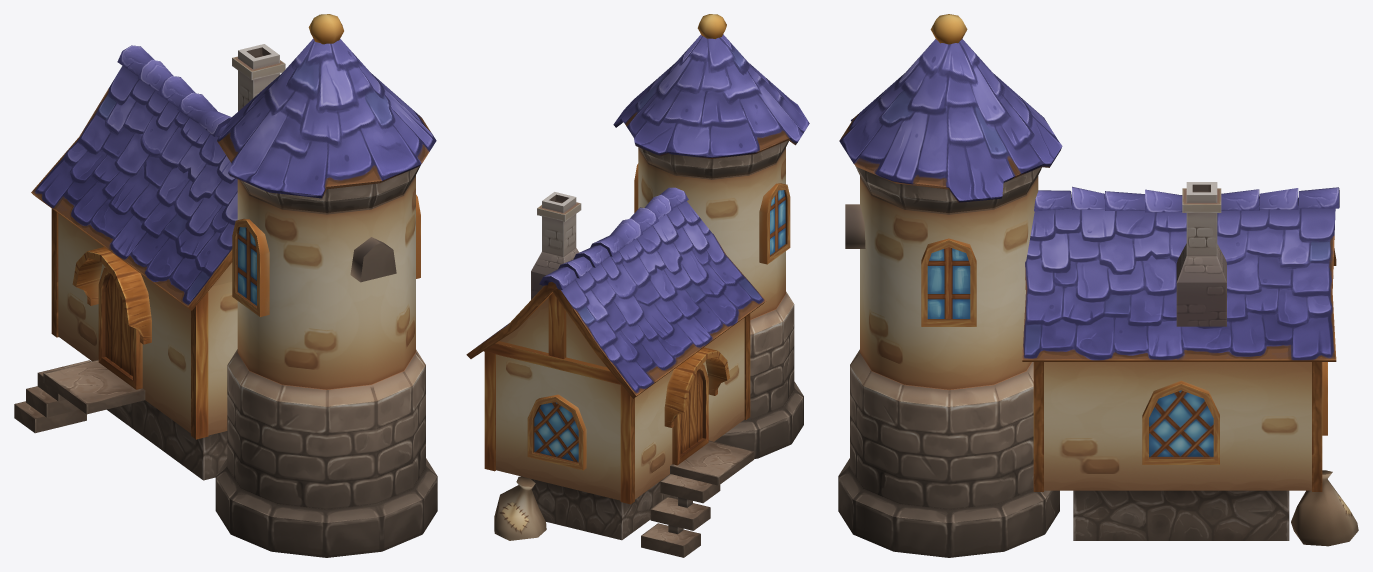
Rendered from Mill.FBX.
3 renders of one model, left to right at view 1: azimuth 30°, elevation 25°; view 2: azimuth 150°, elevation 25°; view 3: azimuth 270°, elevation 25°, orthographic. The views are drawn at different scales.
Visible parts, largest first — view 1: Mill; view 2: Mill; view 3: Mill.
Boxes of the visible parts, x1,y1,x2,y2 form: Mill: (14,14,437,557); Mill: (466,14,809,557); Mill: (838,14,1358,557).
Size of what is drawn, in the model's own units: 580 by 1049 by 1102.
